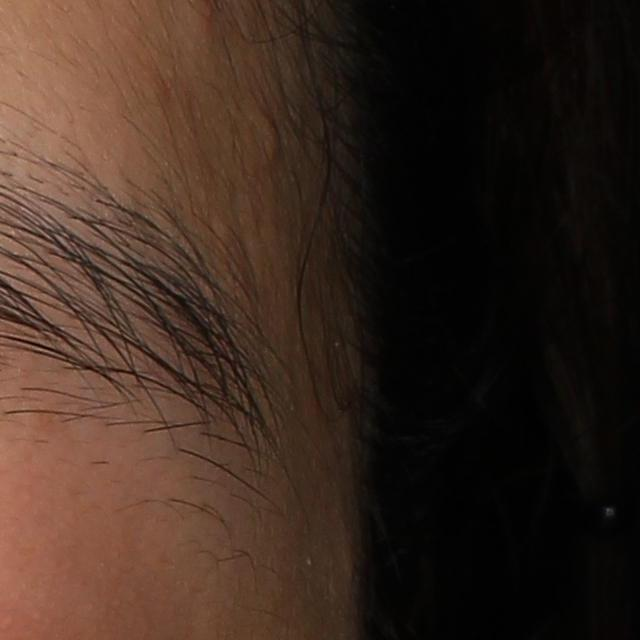papule: (258, 108, 286, 164)
